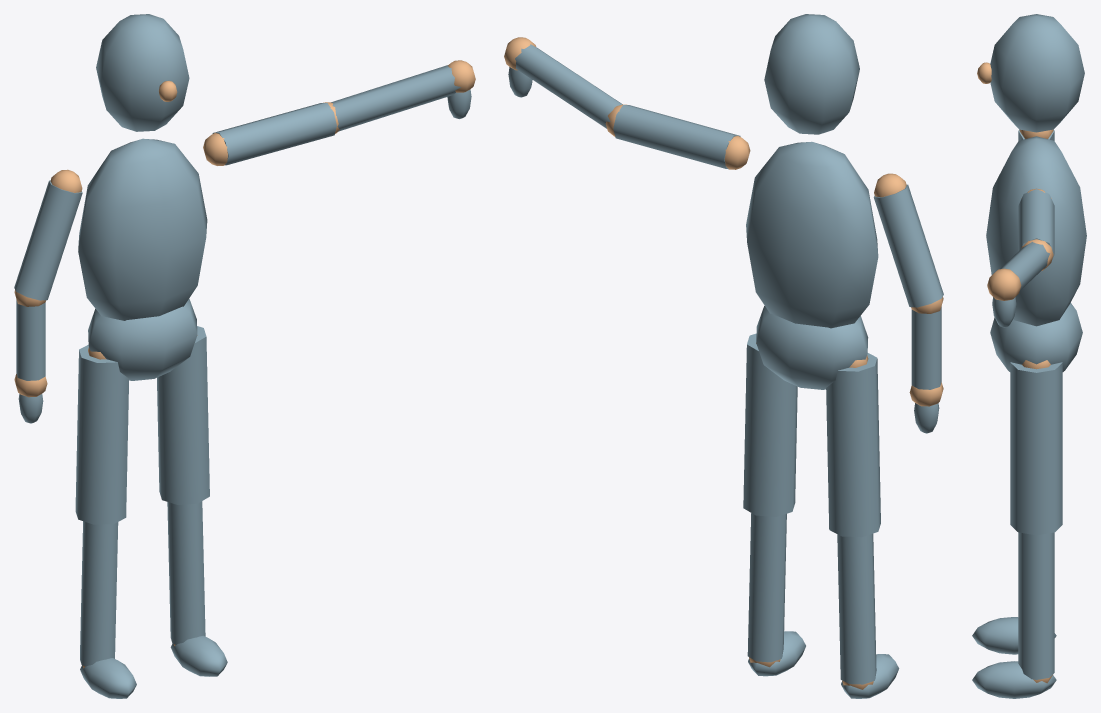
File: pose-arm-extension-3d.glb
3 views of the same model, side by side, from view 1: azimuth 30°, elevation 25°; view 2: azimuth 150°, elevation 25°; view 3: azimuth 270°, elevation 25° (orthographic). The views are drawn at different scales.
Visible parts, largest first — view 1: rib-cage, left-thigh, head, right-thigh, pelvis, left-shin, right-shin, left-upper-arm, right-upper-arm, right-forearm, left-forearm, foot-la (+1 smaller); view 2: rib-cage, head, left-thigh, right-thigh, pelvis, left-shin, right-shin, left-upper-arm, right-upper-arm, right-forearm, left-forearm, foot-la (+2 smaller); view 3: rib-cage, right-thigh, head, right-shin, pelvis, foot-ra, right-upper-arm, foot-la, right-forearm, joint-rw, hand-rw, facing-marker (+2 smaller).
Boxes of the visible parts, x1=… form: rib-cage: x1=78, y1=138, x2=207, y2=320; left-thigh: x1=75, y1=344, x2=128, y2=524; head: x1=96, y1=14, x2=189, y2=131; right-thigh: x1=157, y1=326, x2=209, y2=504; pelvis: x1=88, y1=299, x2=197, y2=380; left-shin: x1=80, y1=521, x2=118, y2=666; right-shin: x1=167, y1=501, x2=205, y2=644; left-upper-arm: x1=14, y1=180, x2=82, y2=300; right-upper-arm: x1=212, y1=103, x2=336, y2=165; right-forearm: x1=331, y1=65, x2=460, y2=131; left-forearm: x1=16, y1=299, x2=45, y2=380; foot-la: x1=80, y1=658, x2=136, y2=698; rib-cage: x1=746, y1=141, x2=878, y2=328; head: x1=764, y1=14, x2=859, y2=134; left-thigh: x1=826, y1=353, x2=880, y2=537; right-thigh: x1=743, y1=333, x2=797, y2=516; pelvis: x1=756, y1=306, x2=868, y2=389; left-shin: x1=837, y1=533, x2=876, y2=684; right-shin: x1=747, y1=513, x2=786, y2=662; left-upper-arm: x1=873, y1=184, x2=943, y2=307; right-upper-arm: x1=613, y1=105, x2=740, y2=169; right-forearm: x1=515, y1=44, x2=622, y2=128; left-forearm: x1=911, y1=307, x2=941, y2=389; foot-la: x1=841, y1=654, x2=899, y2=698; rib-cage: x1=986, y1=136, x2=1086, y2=326; right-thigh: x1=1010, y1=362, x2=1062, y2=535; head: x1=990, y1=14, x2=1084, y2=132; right-shin: x1=1018, y1=532, x2=1054, y2=679; pelvis: x1=990, y1=303, x2=1082, y2=371; foot-ra: x1=972, y1=661, x2=1056, y2=698; right-upper-arm: x1=1018, y1=189, x2=1054, y2=267; foot-la: x1=972, y1=617, x2=1056, y2=654; right-forearm: x1=1000, y1=242, x2=1050, y2=290; joint-rw: x1=987, y1=268, x2=1021, y2=300; hand-rw: x1=992, y1=297, x2=1016, y2=327; facing-marker: x1=977, y1=62, x2=991, y2=83.
Size of the model in its own units: 1.26 by 1.8 by 0.285.
